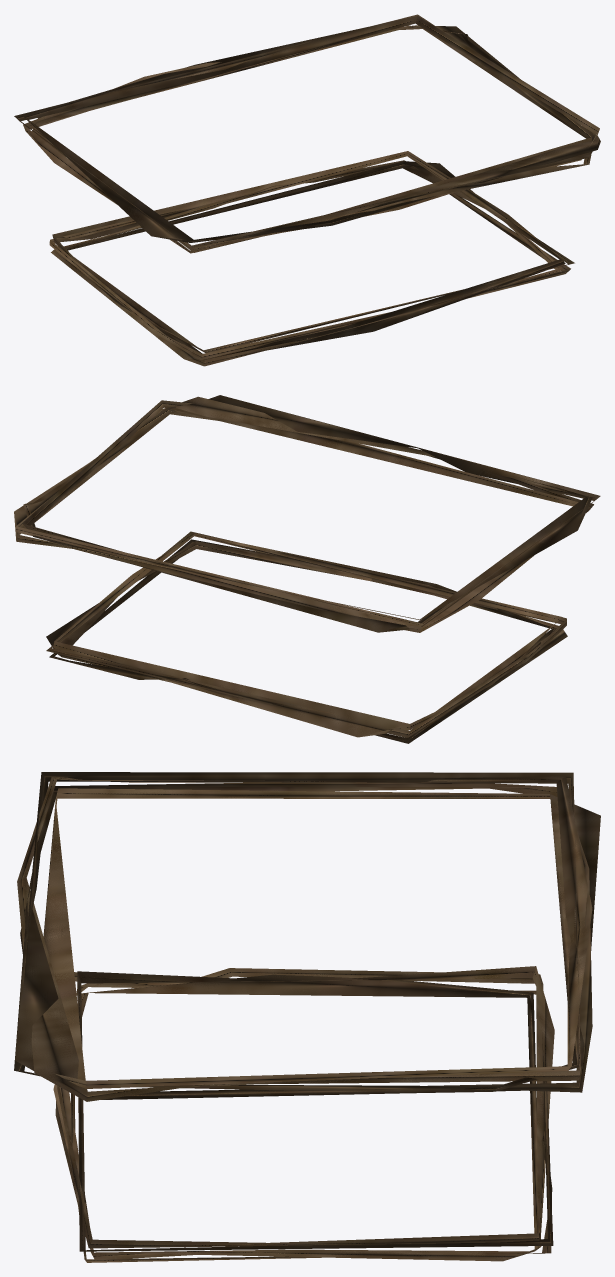
Rendered from wicker_basket_01.glb.
3 renders of one model, top to bottom at view 1: azimuth 30°, elevation 25°; view 2: azimuth 150°, elevation 25°; view 3: azimuth 270°, elevation 25°, orthographic. The views are drawn at different scales.
Visible parts, largest first — view 1: wicker_basket_01; view 2: wicker_basket_01; view 3: wicker_basket_01.
Boxes of the visible parts, left/top/right/bottom form: wicker_basket_01: left=14, top=14, right=600, bottom=366; wicker_basket_01: left=14, top=395, right=600, bottom=743; wicker_basket_01: left=14, top=772, right=600, bottom=1262.
Size of the model in its own units: 0.3784 by 0.1148 by 0.2926.
Materials: 1 (1 with a texture image).
